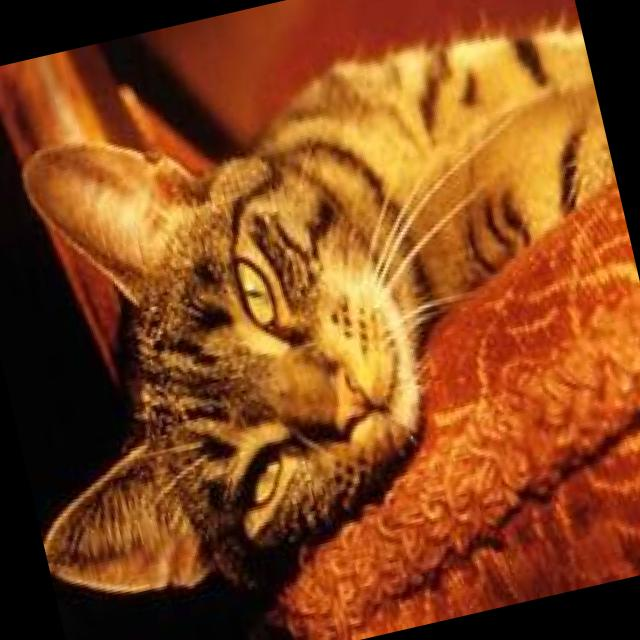animal: (0, 0, 640, 634)
